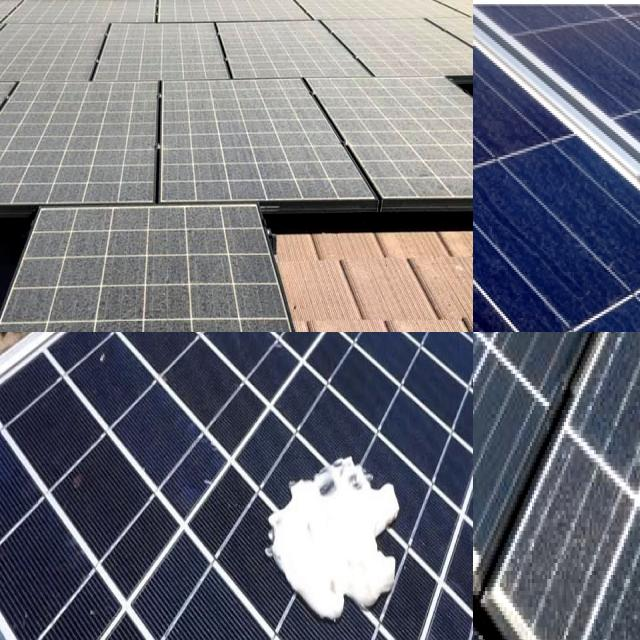bird: (261, 430, 404, 635)
dust: (159, 214, 274, 332), (180, 94, 306, 195), (20, 93, 143, 191), (38, 212, 141, 324), (348, 96, 473, 182), (110, 22, 213, 79), (243, 25, 334, 71), (2, 25, 87, 73), (0, 86, 36, 191), (381, 26, 448, 71), (0, 31, 23, 75)
